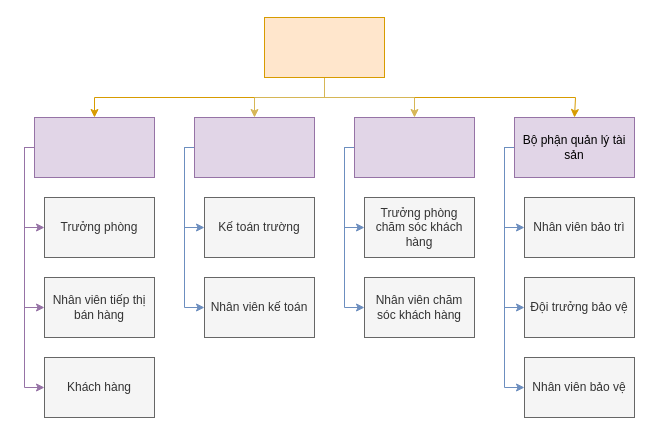
This 652x435 diagram has some shape labels left out. Here are the shapes that lost their labels. From the top down, the box of each, then its label:
(264, 16, 384, 78): Chủ sở hữu nhà trọ
(34, 116, 154, 178): Bộ phận tiếp thị bán hàng
(194, 116, 314, 178): Bộ phận tài chính
(354, 116, 474, 178): Bộ phận quản lý khách hàng
